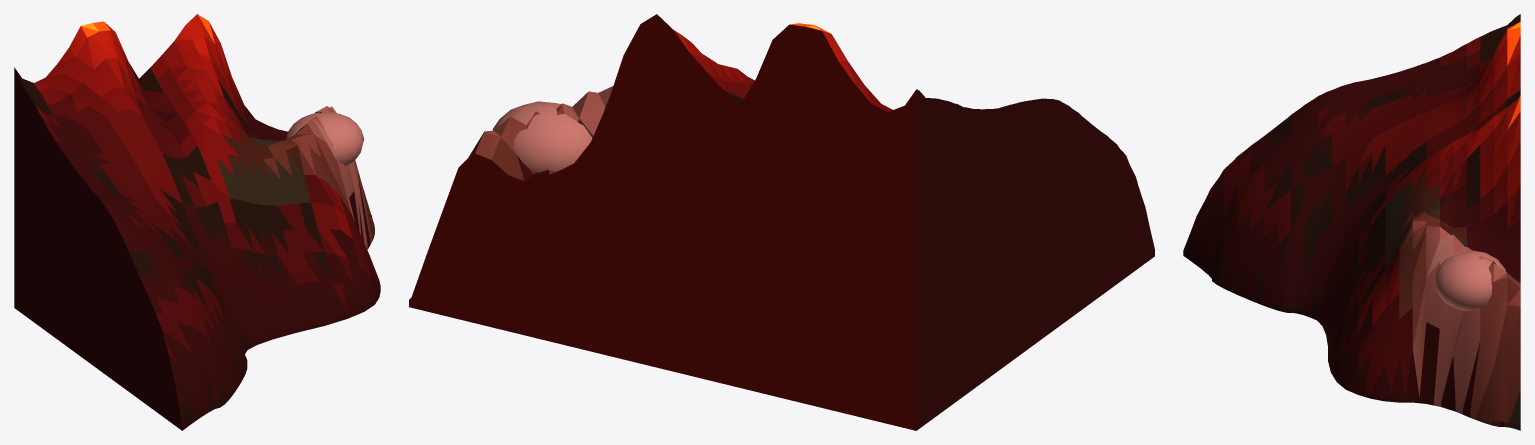
The model's file is lava_grub_l_b4.glb.
3 views of the same model, side by side, from view 1: azimuth 30°, elevation 25°; view 2: azimuth 150°, elevation 25°; view 3: azimuth 270°, elevation 25° (orthographic). The views are drawn at different scales.
Visible parts, largest first — view 1: lava_grub_l_b4_grub_body, lava_grub_l_b4_grub_knob9; view 2: lava_grub_l_b4_grub_body, lava_grub_l_b4_grub_knob9; view 3: lava_grub_l_b4_grub_body, lava_grub_l_b4_grub_knob9.
Boxes of the visible parts, box(x1,y1,x2,y2) form: lava_grub_l_b4_grub_body: box(14, 14, 380, 430); lava_grub_l_b4_grub_knob9: box(286, 111, 364, 166); lava_grub_l_b4_grub_body: box(409, 14, 1154, 430); lava_grub_l_b4_grub_knob9: box(492, 101, 592, 172); lava_grub_l_b4_grub_body: box(1183, 14, 1520, 430); lava_grub_l_b4_grub_knob9: box(1434, 250, 1505, 310).
Bounding box in the file's own units: 21.48 × 15.26 × 17.48.
